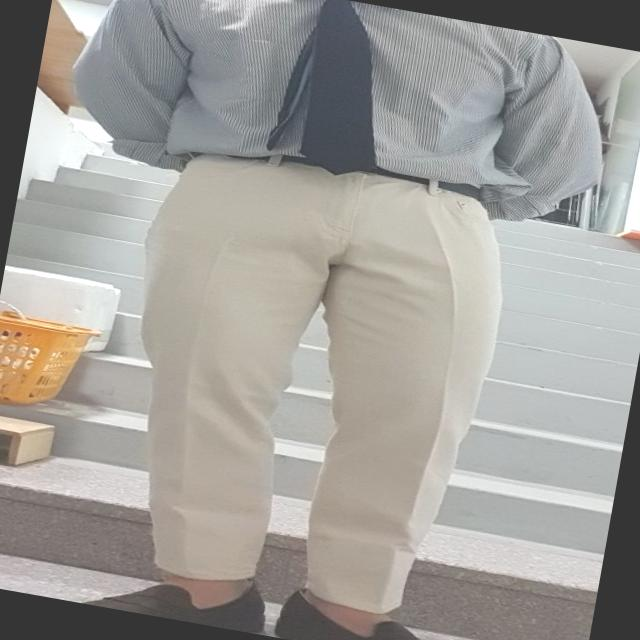cottonpants: (90, 133, 526, 626)
shirt: (63, 0, 617, 236)
